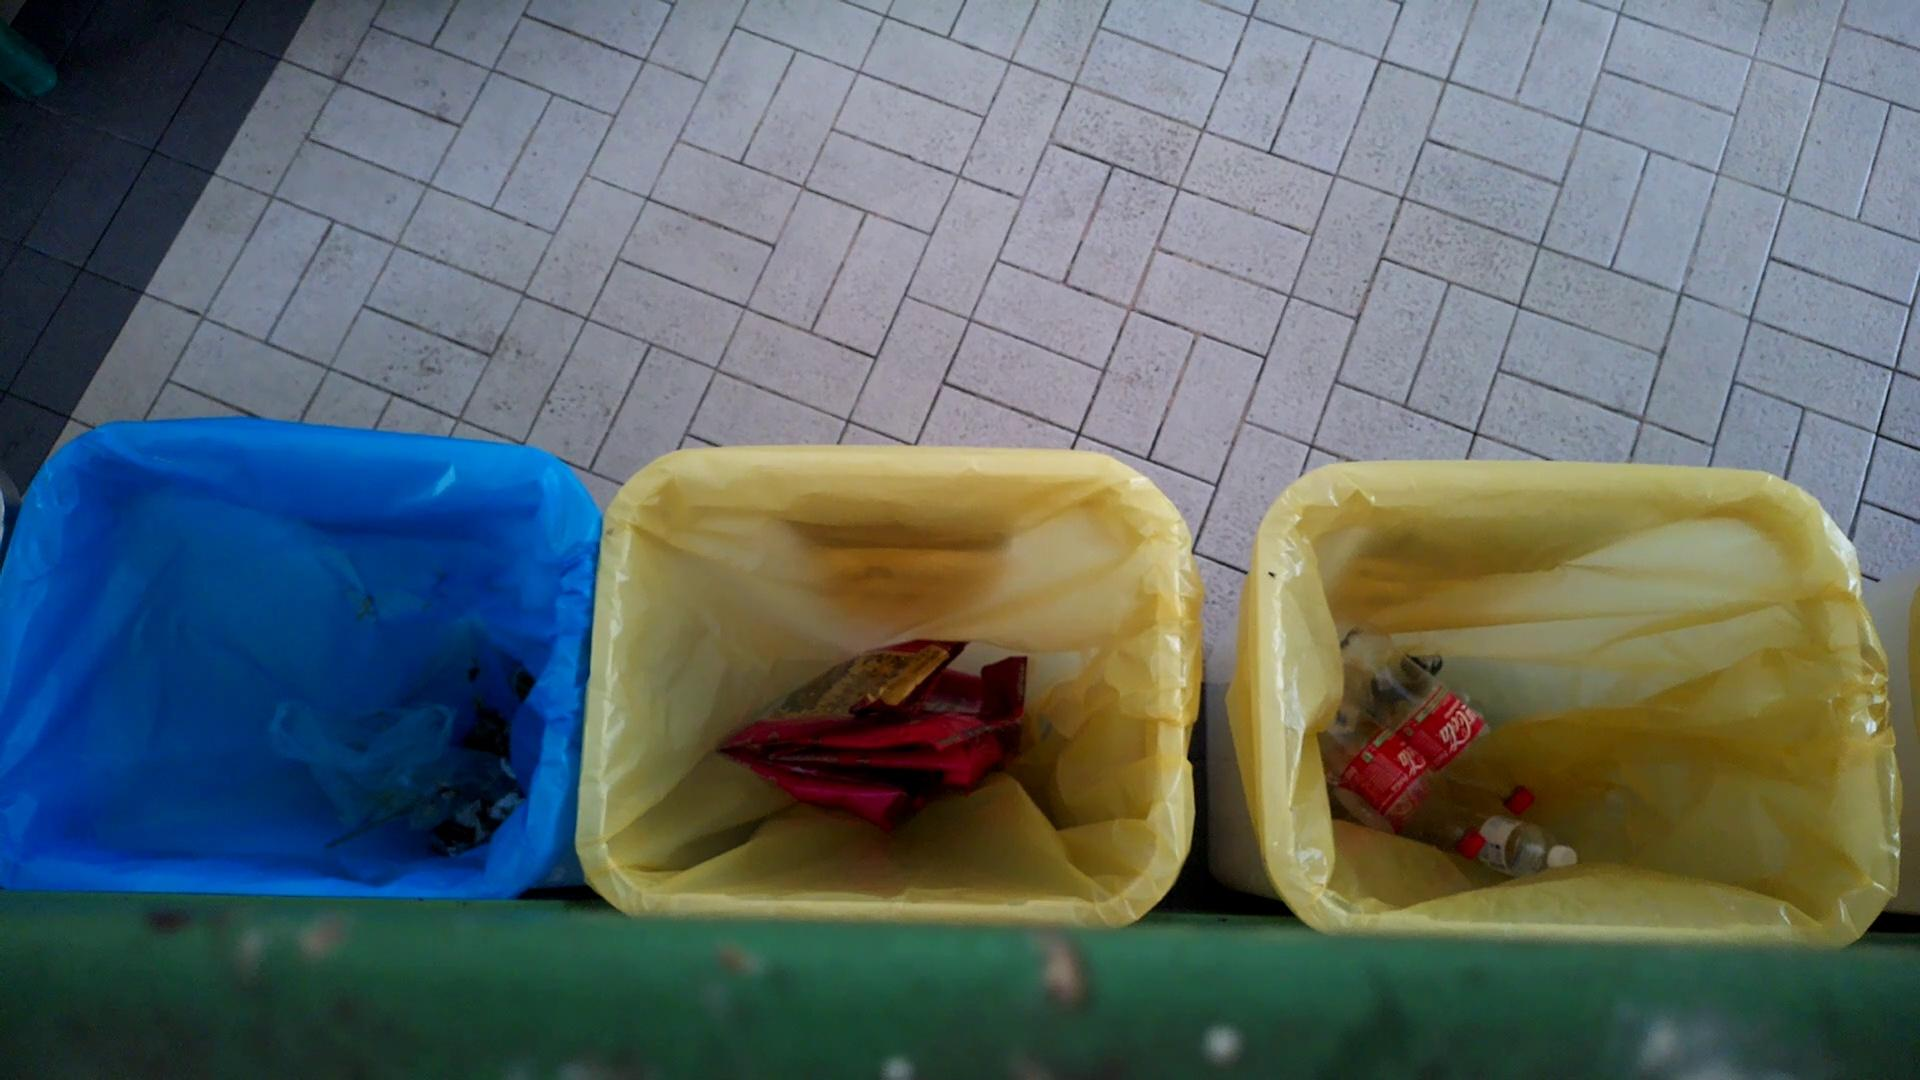filled plastic bag: (261, 691, 518, 865)
plastic bottle: (1336, 612, 1544, 819), (1319, 700, 1491, 866), (1458, 802, 1586, 874)
snack packaging: (712, 628, 1038, 837)
